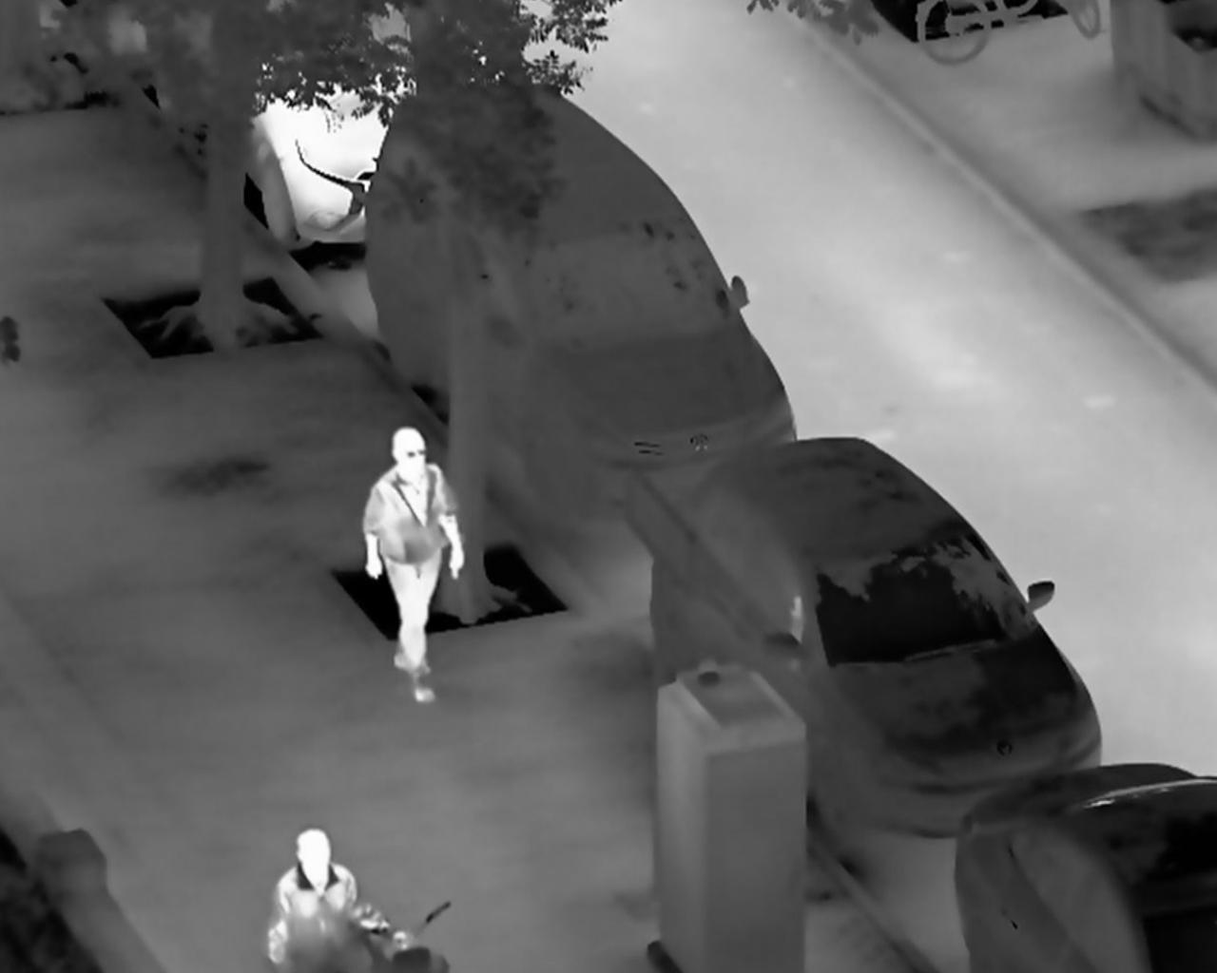person: (359, 425, 468, 707), (261, 825, 418, 973)
